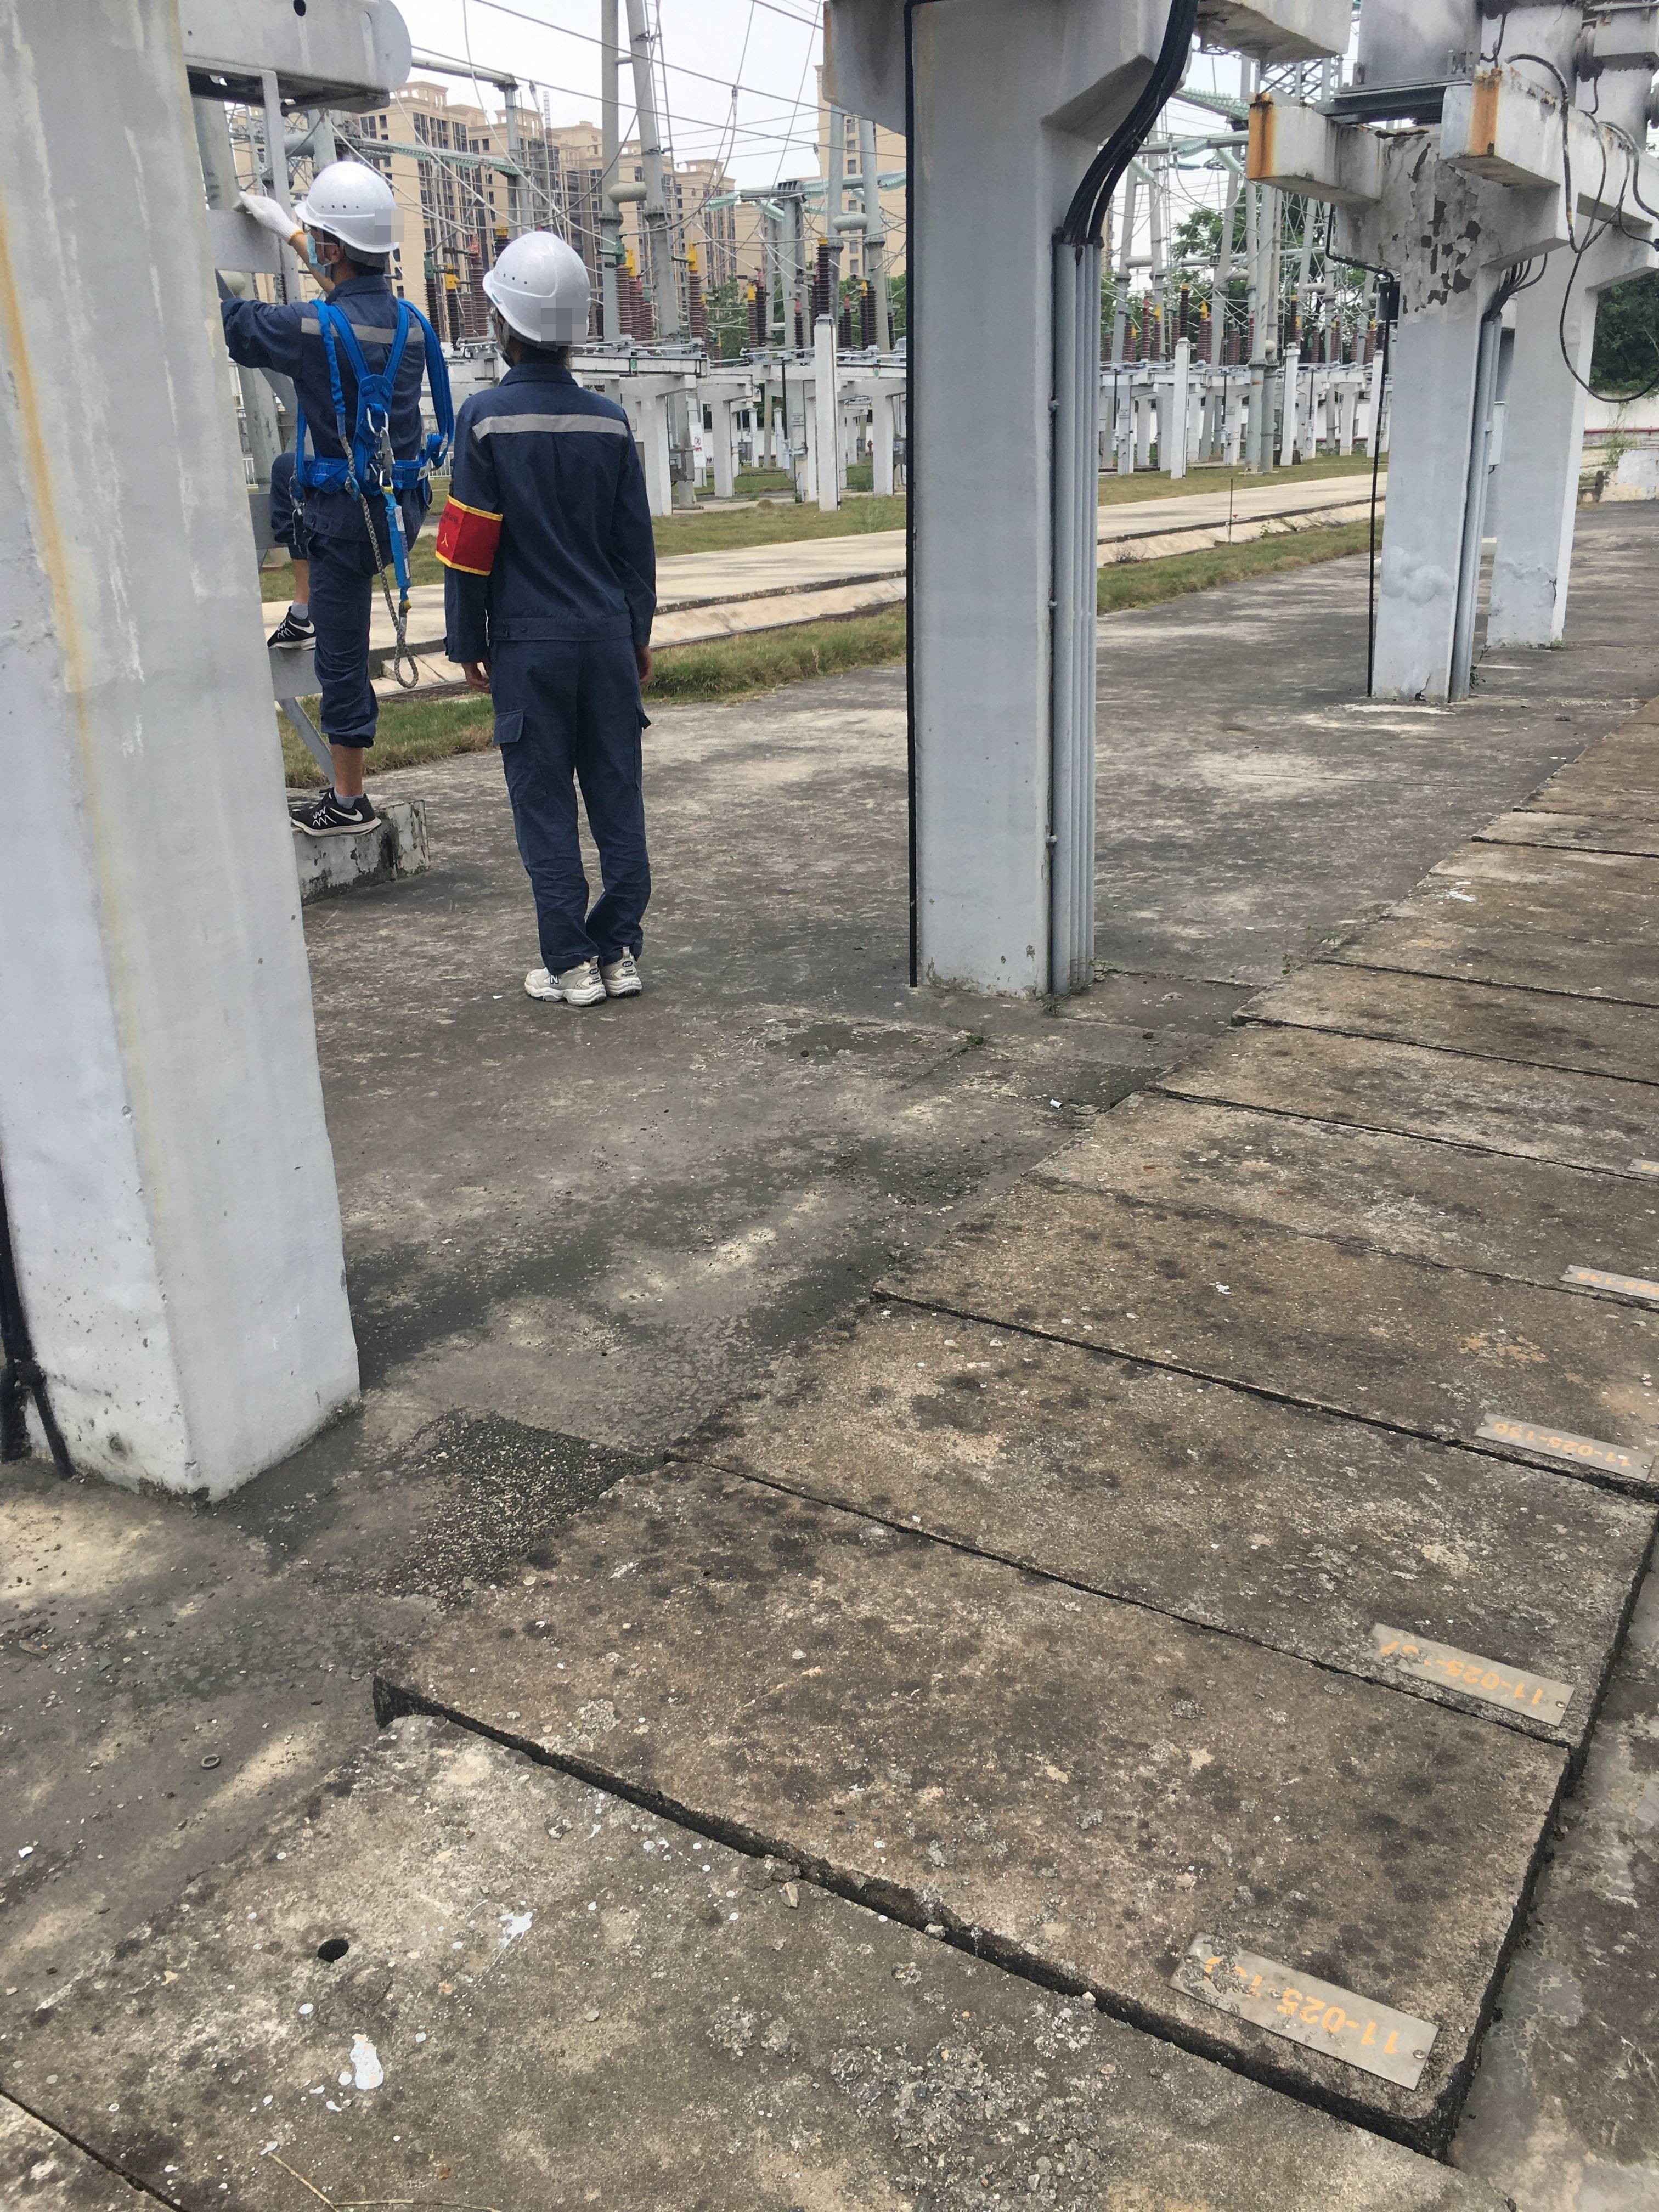downsuit: (488, 667, 662, 960), (270, 467, 415, 758)
upsuit: (430, 371, 667, 648), (218, 277, 450, 529)
wrongbottom: (319, 693, 382, 801), (279, 526, 310, 610)
